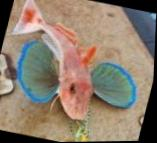fish: (12, 0, 138, 120)
